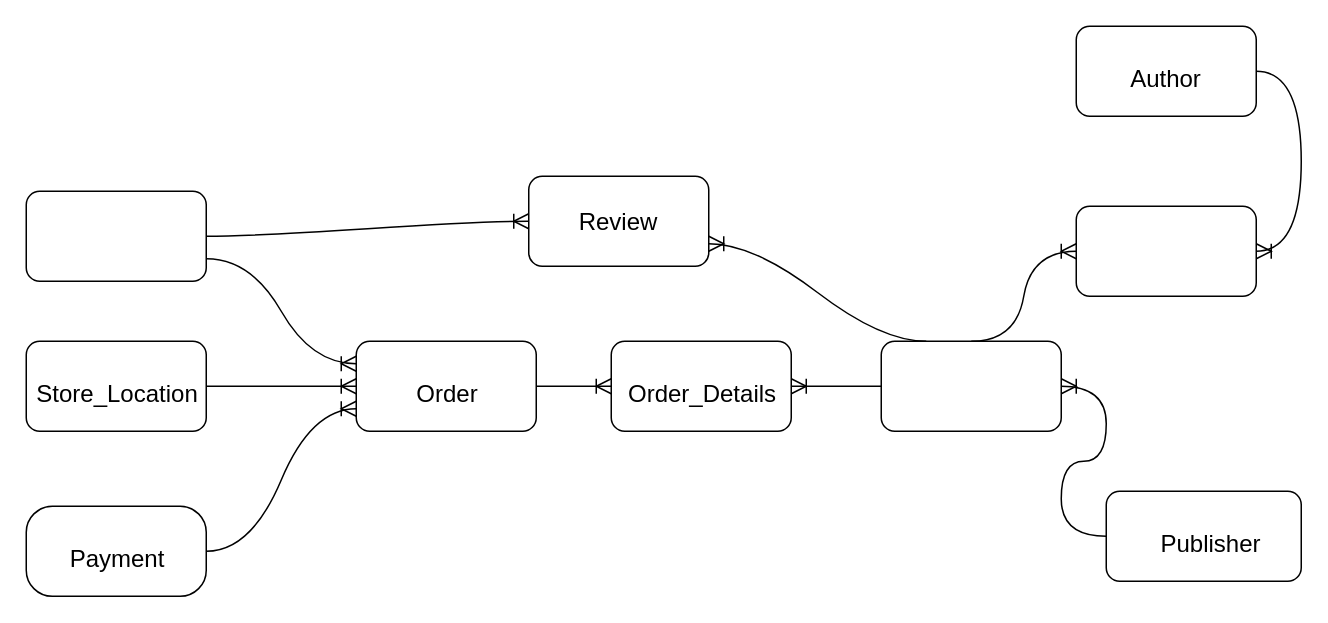
Image size: 1328x623. Some labels were removed from this diagram. The centre of each missing label's shape, as x and y in pixels:
"Book_Author" belongs at point 1165,250.
"Books" belongs at point 970,385.
"Client" belongs at point 115,235.
